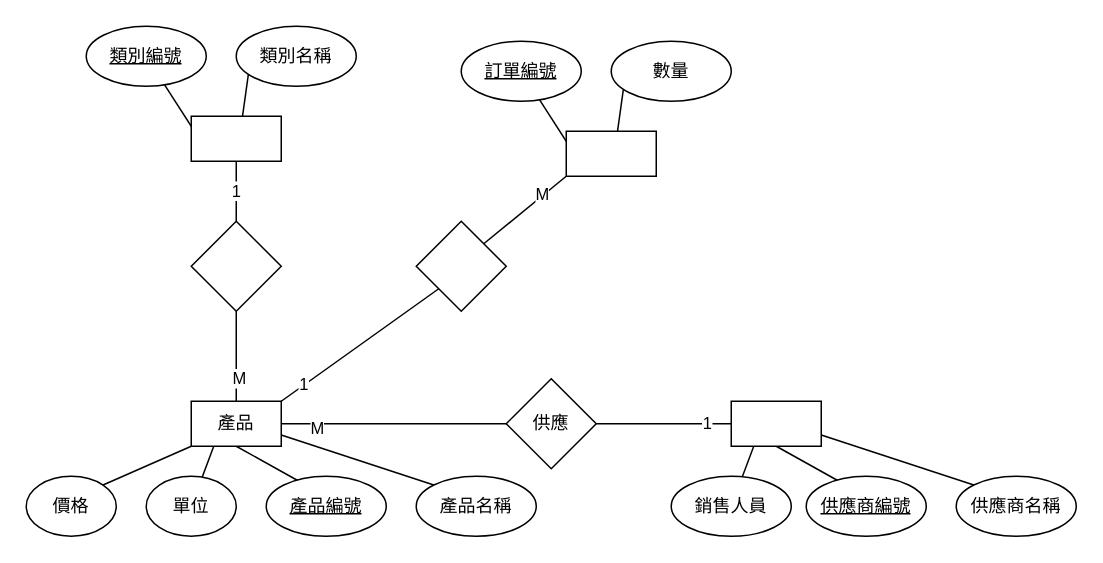
The diagram is 1103 pixels wide and 563 high, and some of its shapes have lost their labels. Each missing label, with the centre of its shape:
"供應商" goes at pixel 775 423.
"分類" goes at pixel 235 265.
"訂單明細" goes at pixel 610 153.
"訂購" goes at pixel 460 265.
"類別" goes at pixel 235 138.
